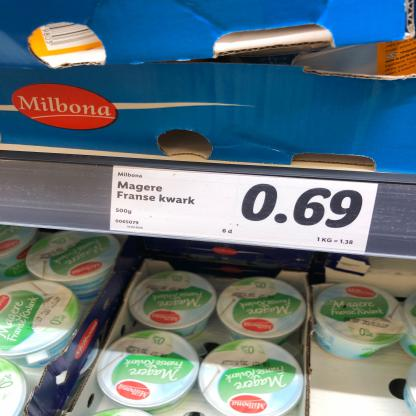prtg: (110, 166, 379, 256)
